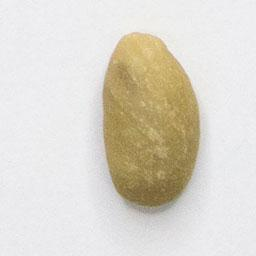longberry: (100, 26, 204, 212)
